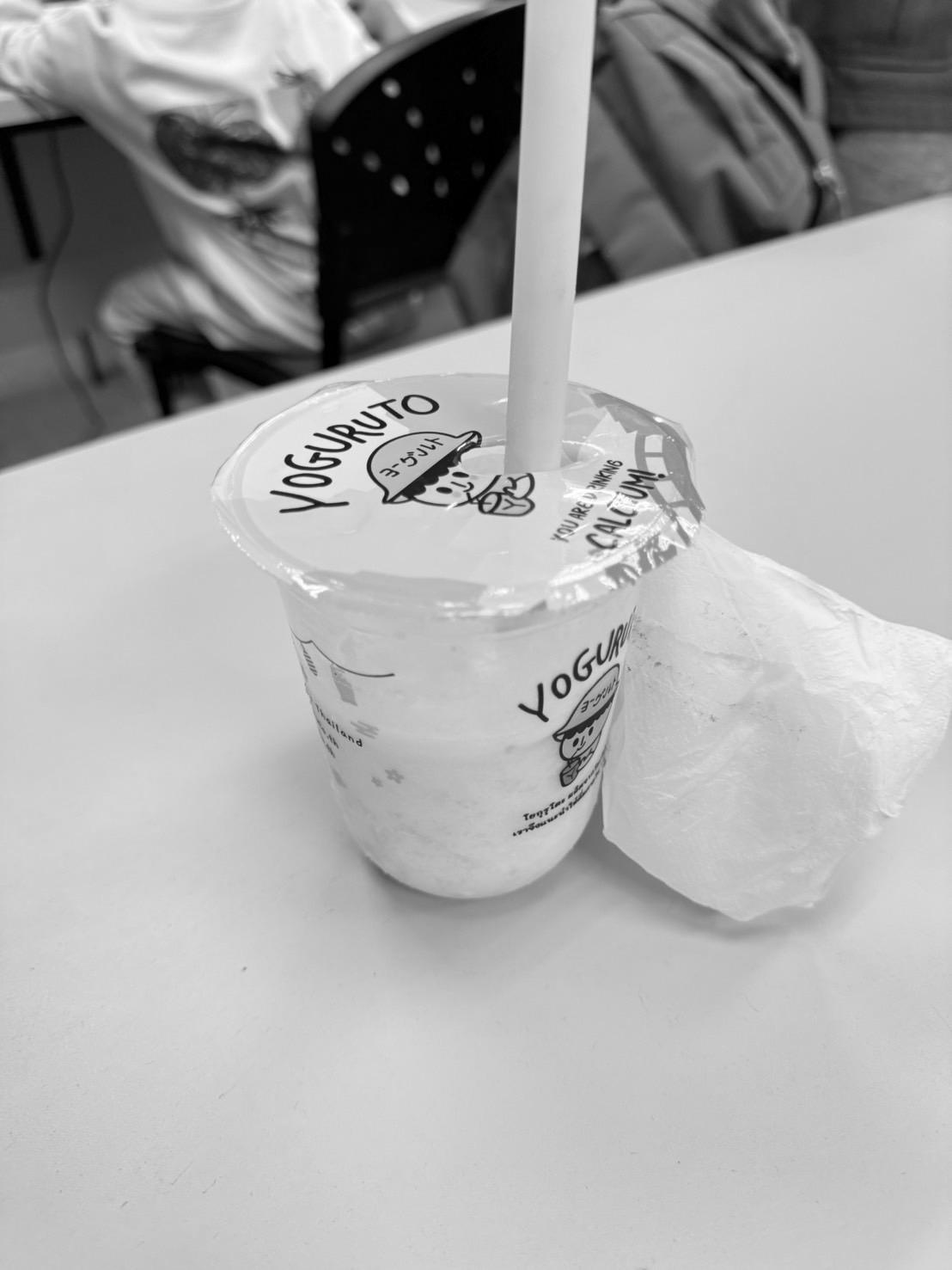bottle: (212, 374, 701, 898)
